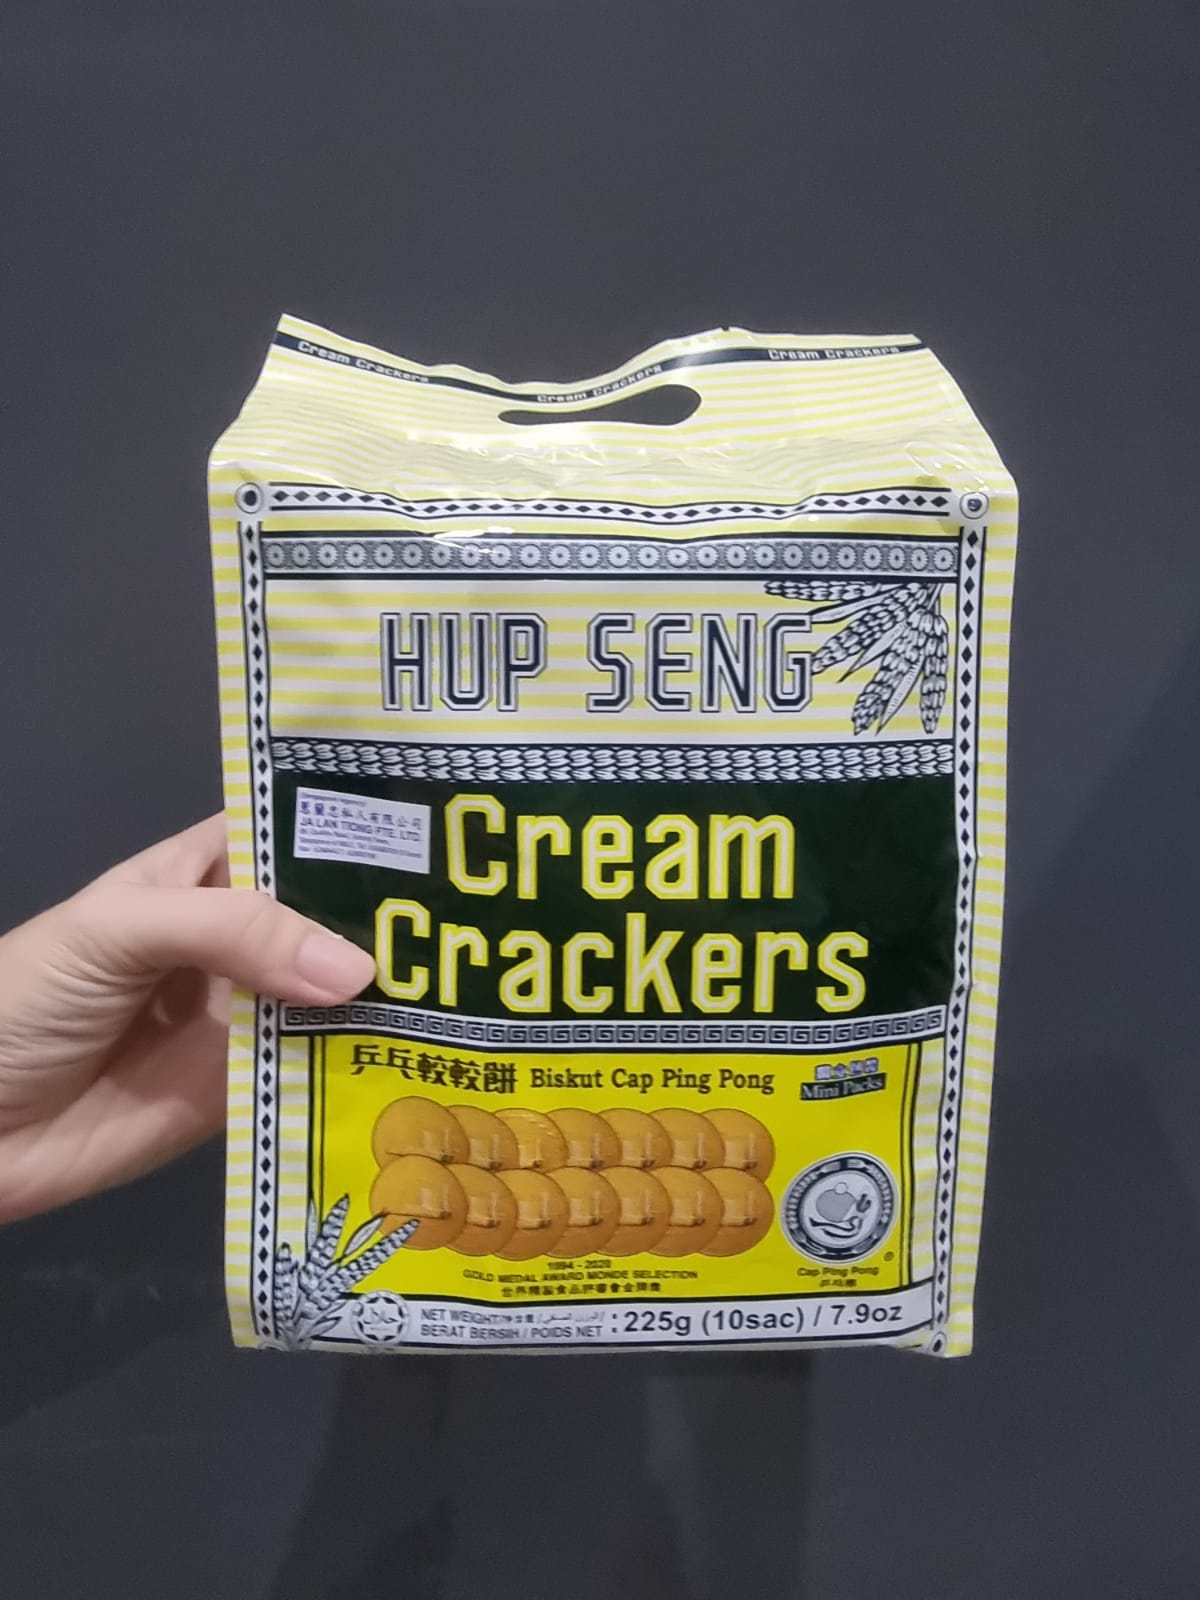Biscuits: (250, 506, 976, 1342)
